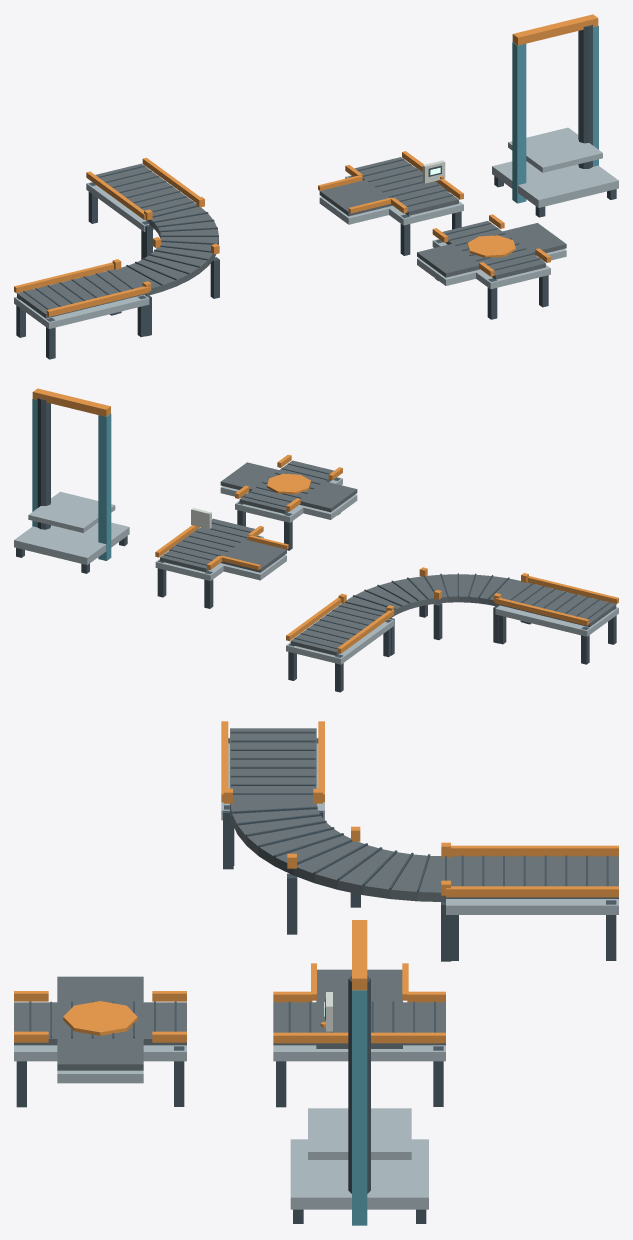
Rendered from conveyor-connection-examples.glb.
3 renders of one model, top to bottom at view 1: azimuth 30°, elevation 25°; view 2: azimuth 150°, elevation 25°; view 3: azimuth 270°, elevation 25°, orthographic. The views are drawn at different scales.
Visible parts, largest first — view 1: 005-factory-conveyor-network-belt-lift/steel, 004-factory-conveyor-network-belt-cross/rubber, 001-factory-conveyor-network-belt-corner/rubber, 003-factory-conveyor-network-belt-t-split/rubber, 005-factory-conveyor-network-belt-lift/blue, 002-factory-conveyor-network-belt-straight/rubber, 001-factory-conveyor-network-belt-corner/dark, 000-factory-conveyor-network-belt-straight/rubber, 005-factory-conveyor-network-belt-lift/dark, 002-factory-conveyor-network-belt-straight/orange, 004-factory-conveyor-network-belt-cross/steel, 002-factory-conveyor-network-belt-straight/steel (+11 smaller); view 2: 005-factory-conveyor-network-belt-lift/steel, 001-factory-conveyor-network-belt-corner/rubber, 004-factory-conveyor-network-belt-cross/rubber, 003-factory-conveyor-network-belt-t-split/rubber, 005-factory-conveyor-network-belt-lift/blue, 000-factory-conveyor-network-belt-straight/rubber, 002-factory-conveyor-network-belt-straight/rubber, 005-factory-conveyor-network-belt-lift/dark, 001-factory-conveyor-network-belt-corner/dark, 000-factory-conveyor-network-belt-straight/dark, 002-factory-conveyor-network-belt-straight/orange, 004-factory-conveyor-network-belt-cross/steel (+10 smaller); view 3: 005-factory-conveyor-network-belt-lift/steel, 001-factory-conveyor-network-belt-corner/rubber, 004-factory-conveyor-network-belt-cross/rubber, 003-factory-conveyor-network-belt-t-split/rubber, 002-factory-conveyor-network-belt-straight/rubber, 000-factory-conveyor-network-belt-straight/rubber, 001-factory-conveyor-network-belt-corner/dark, 000-factory-conveyor-network-belt-straight/orange, 005-factory-conveyor-network-belt-lift/blue, 004-factory-conveyor-network-belt-cross/orange, 003-factory-conveyor-network-belt-t-split/orange, 000-factory-conveyor-network-belt-straight/steel (+10 smaller).
Part boxes in pixels (left/top/right/bottom): 005-factory-conveyor-network-belt-lift/steel: left=492, top=127, right=618, bottom=207; 004-factory-conveyor-network-belt-cross/rubber: left=417, top=221, right=566, bottom=279; 001-factory-conveyor-network-belt-corner/rubber: left=119, top=207, right=218, bottom=295; 003-factory-conveyor-network-belt-t-split/rubber: left=319, top=157, right=458, bottom=216; 005-factory-conveyor-network-belt-lift/blue: left=512, top=26, right=598, bottom=203; 002-factory-conveyor-network-belt-straight/rubber: left=17, top=269, right=146, bottom=318; 001-factory-conveyor-network-belt-corner/dark: left=117, top=205, right=219, bottom=336; 000-factory-conveyor-network-belt-straight/rubber: left=95, top=163, right=196, bottom=221; 005-factory-conveyor-network-belt-lift/dark: left=494, top=25, right=616, bottom=217; 002-factory-conveyor-network-belt-straight/orange: left=14, top=262, right=149, bottom=316; 004-factory-conveyor-network-belt-cross/steel: left=417, top=239, right=566, bottom=289; 002-factory-conveyor-network-belt-straight/steel: left=14, top=294, right=149, bottom=328; 005-factory-conveyor-network-belt-lift/steel: left=14, top=491, right=129, bottom=564; 001-factory-conveyor-network-belt-corner/rubber: left=346, top=574, right=522, bottom=618; 004-factory-conveyor-network-belt-cross/rubber: left=220, top=460, right=357, bottom=514; 003-factory-conveyor-network-belt-t-split/rubber: left=160, top=518, right=286, bottom=572; 005-factory-conveyor-network-belt-lift/blue: left=32, top=399, right=111, bottom=560; 000-factory-conveyor-network-belt-straight/rubber: left=290, top=603, right=385, bottom=655; 002-factory-conveyor-network-belt-straight/rubber: left=498, top=582, right=616, bottom=627; 005-factory-conveyor-network-belt-lift/dark: left=16, top=398, right=127, bottom=573; 001-factory-conveyor-network-belt-corner/dark: left=345, top=573, right=524, bottom=655; 000-factory-conveyor-network-belt-straight/dark: left=288, top=605, right=391, bottom=692; 002-factory-conveyor-network-belt-straight/orange: left=495, top=576, right=618, bottom=625; 004-factory-conveyor-network-belt-cross/steel: left=220, top=477, right=357, bottom=522; 005-factory-conveyor-network-belt-lift/steel: left=290, top=1108, right=428, bottom=1209; 001-factory-conveyor-network-belt-corner/rubber: left=230, top=801, right=445, bottom=902; 004-factory-conveyor-network-belt-cross/rubber: left=14, top=976, right=186, bottom=1070; 003-factory-conveyor-network-belt-t-split/rubber: left=273, top=969, right=445, bottom=1048; 002-factory-conveyor-network-belt-straight/rubber: left=230, top=728, right=316, bottom=801; 000-factory-conveyor-network-belt-straight/rubber: left=446, top=856, right=618, bottom=898; 001-factory-conveyor-network-belt-corner/dark: left=223, top=806, right=451, bottom=961; 000-factory-conveyor-network-belt-straight/orange: left=446, top=845, right=618, bottom=897; 005-factory-conveyor-network-belt-lift/blue: left=352, top=990, right=367, bottom=1225; 004-factory-conveyor-network-belt-cross/orange: left=14, top=991, right=186, bottom=1042; 003-factory-conveyor-network-belt-t-split/orange: left=273, top=963, right=445, bottom=1043; 000-factory-conveyor-network-belt-straight/steel: left=446, top=899, right=618, bottom=914.
Bounding box in the file's own units: 11.81 × 3.15 × 7.
